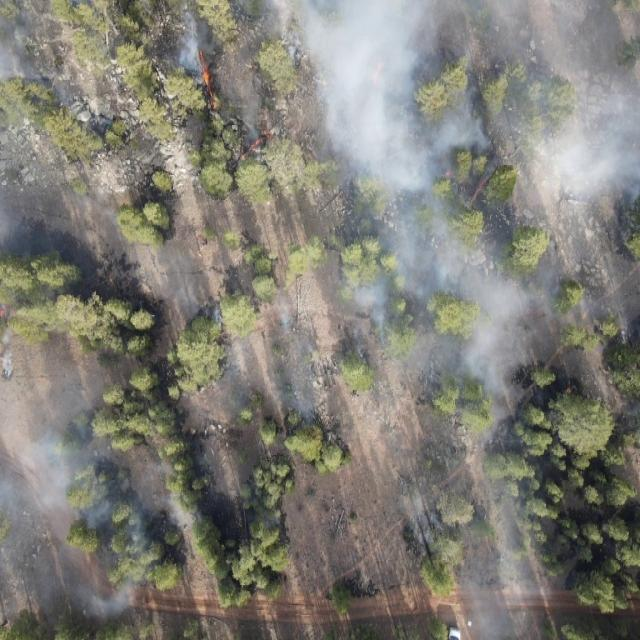fire: (229, 131, 272, 167), (195, 50, 220, 110), (371, 61, 385, 90), (472, 176, 485, 202), (0, 304, 8, 321), (444, 168, 454, 180), (564, 386, 572, 396)
smoke: (266, 0, 640, 210), (0, 356, 201, 640), (342, 208, 610, 374), (407, 374, 537, 640), (260, 301, 330, 431), (0, 0, 62, 102), (158, 262, 229, 336), (172, 9, 220, 89)
